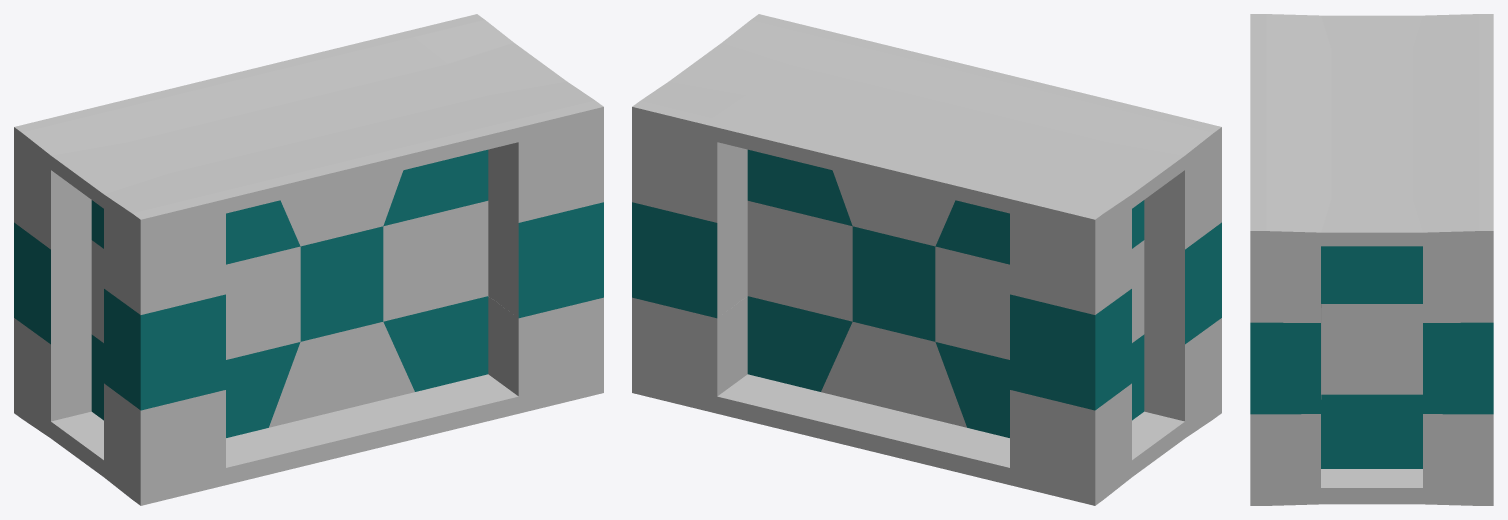
Rendered from ammo.fbx.
3 views of the same model, side by side, from view 1: azimuth 30°, elevation 25°; view 2: azimuth 150°, elevation 25°; view 3: azimuth 270°, elevation 25° (orthographic). The views are drawn at different scales.
Parts seen in each view (by area): view 1: Cube; view 2: Cube; view 3: Cube.
Boxes of the visible parts, x1,y1,x2,y2 form: Cube: (14,14,603,505); Cube: (632,14,1221,505); Cube: (1250,14,1493,505).
Size of the model in its own units: 302 by 178 by 143.
